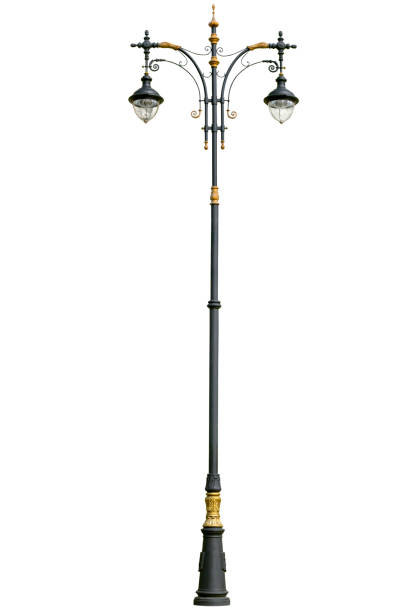light_pole: (192, 15, 237, 604)
